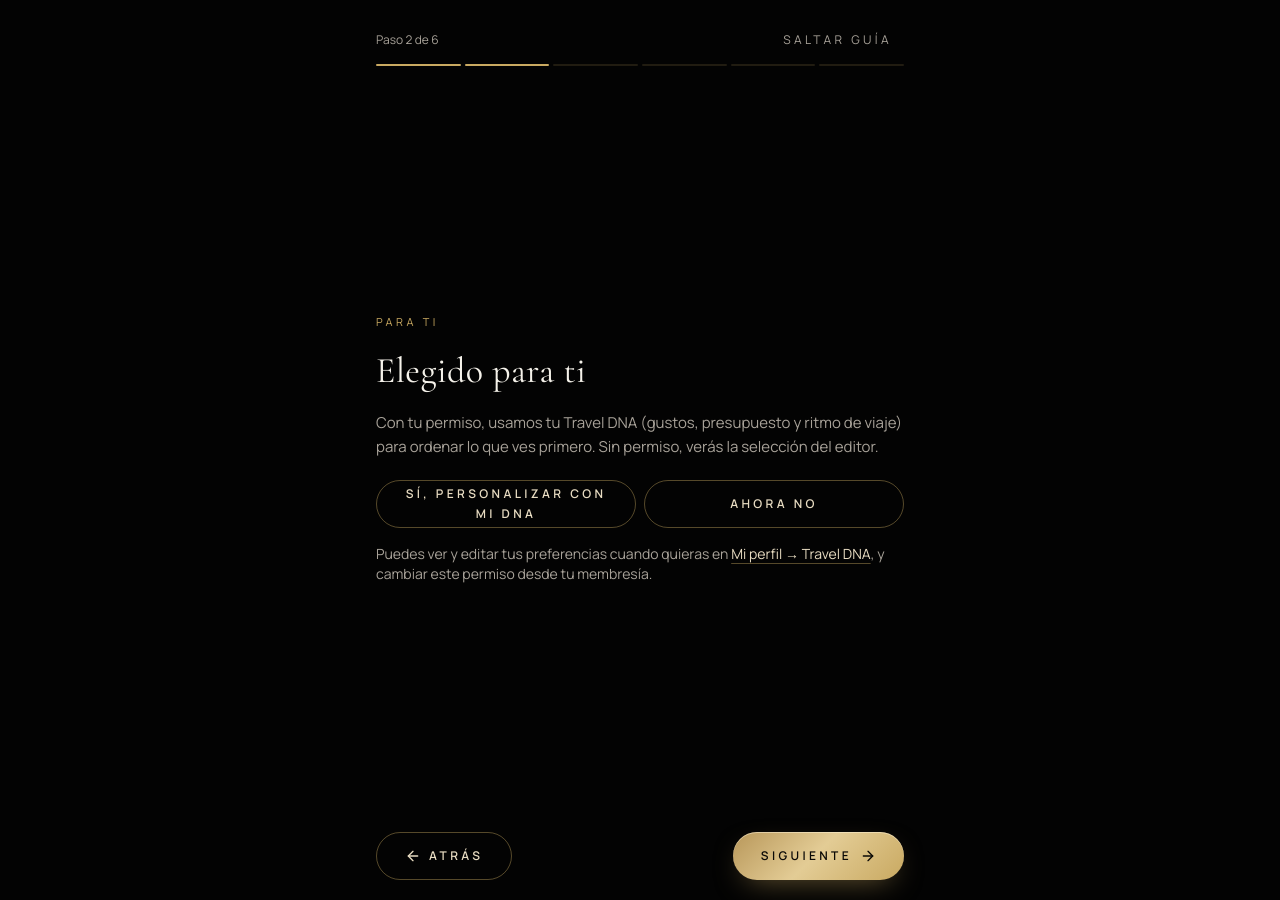
Test case: guía de inicio › el consentimiento del Travel DNA se guarda; reservas: cinco etiquetas sin prometer nada
The image size is (1280, 900).
Click the button "Sí, personalizar con mi DNA" at (506, 504), box left=376, top=480, right=636, bottom=528
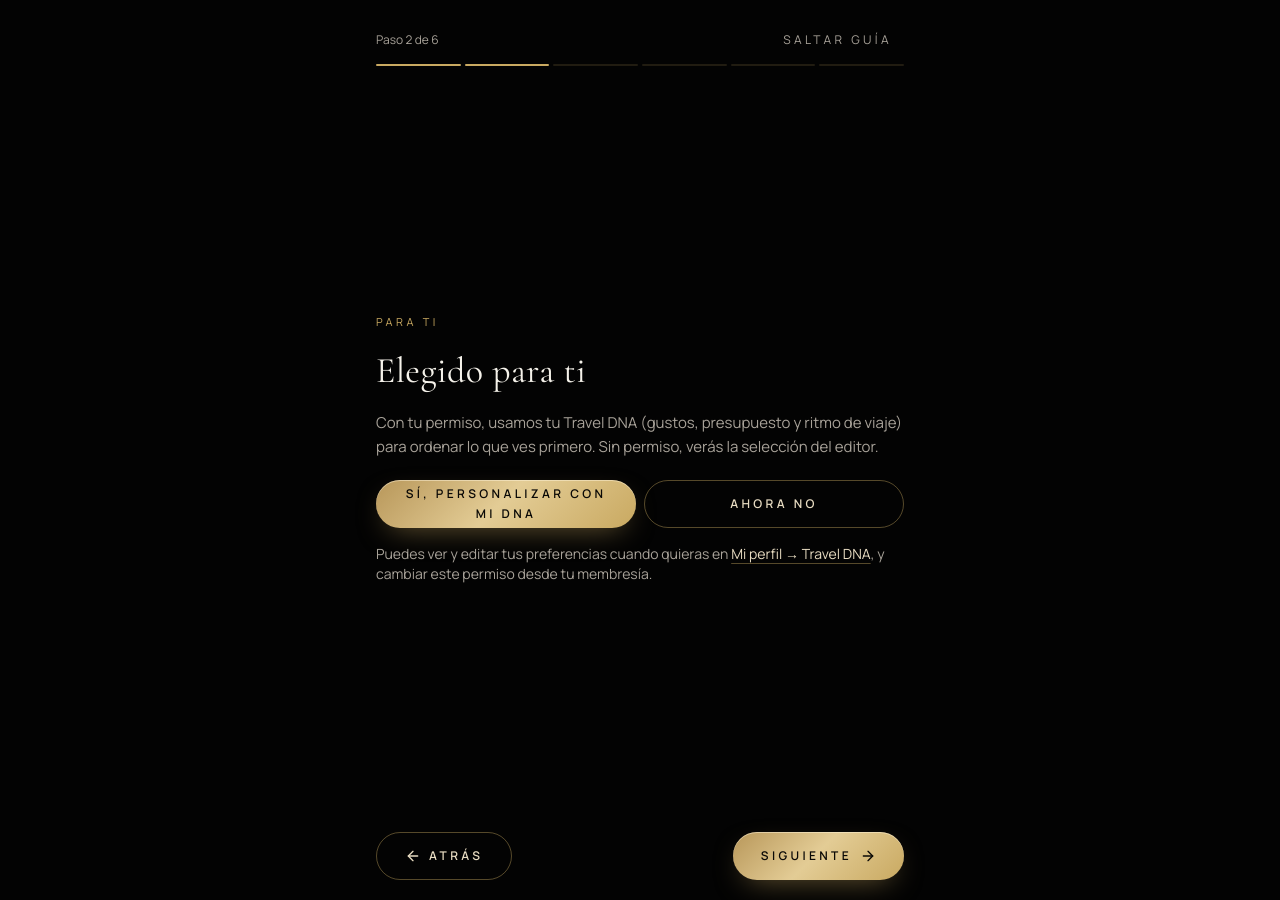
Click the button "Siguiente" at (818, 856), box left=733, top=832, right=904, bottom=880
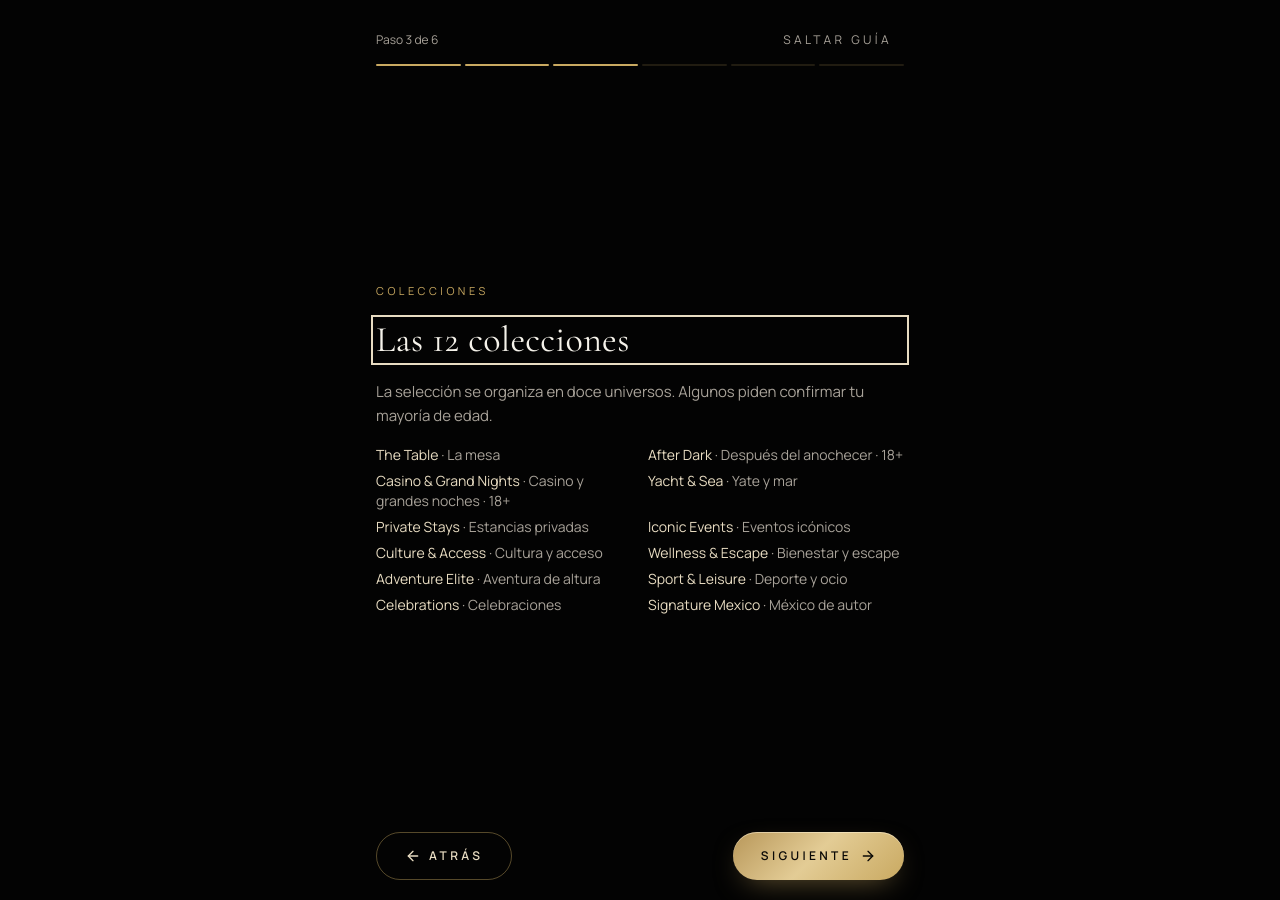
Click the button "Siguiente" at (818, 856), box left=733, top=832, right=904, bottom=880
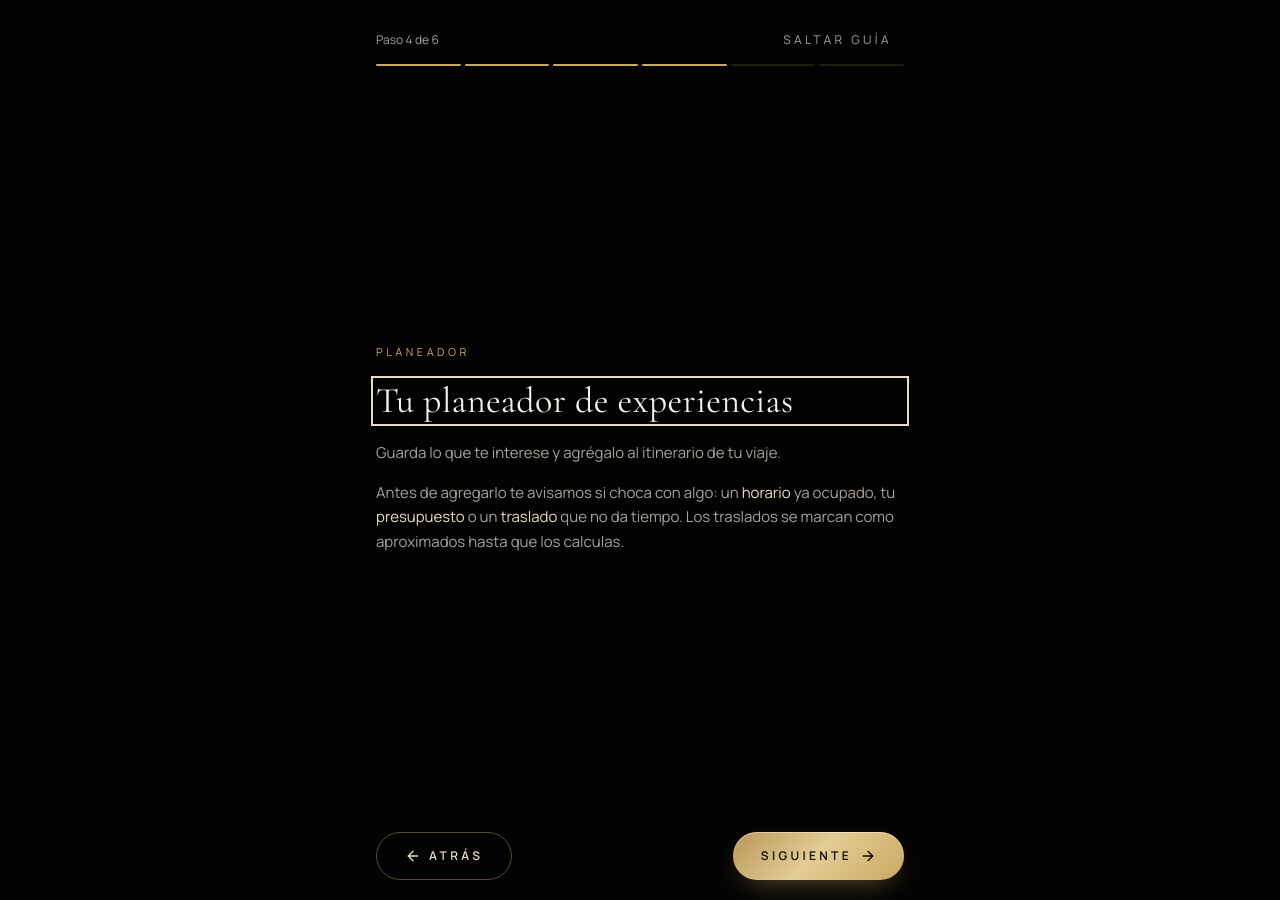
Click the button "Siguiente" at (818, 856), box left=733, top=832, right=904, bottom=880
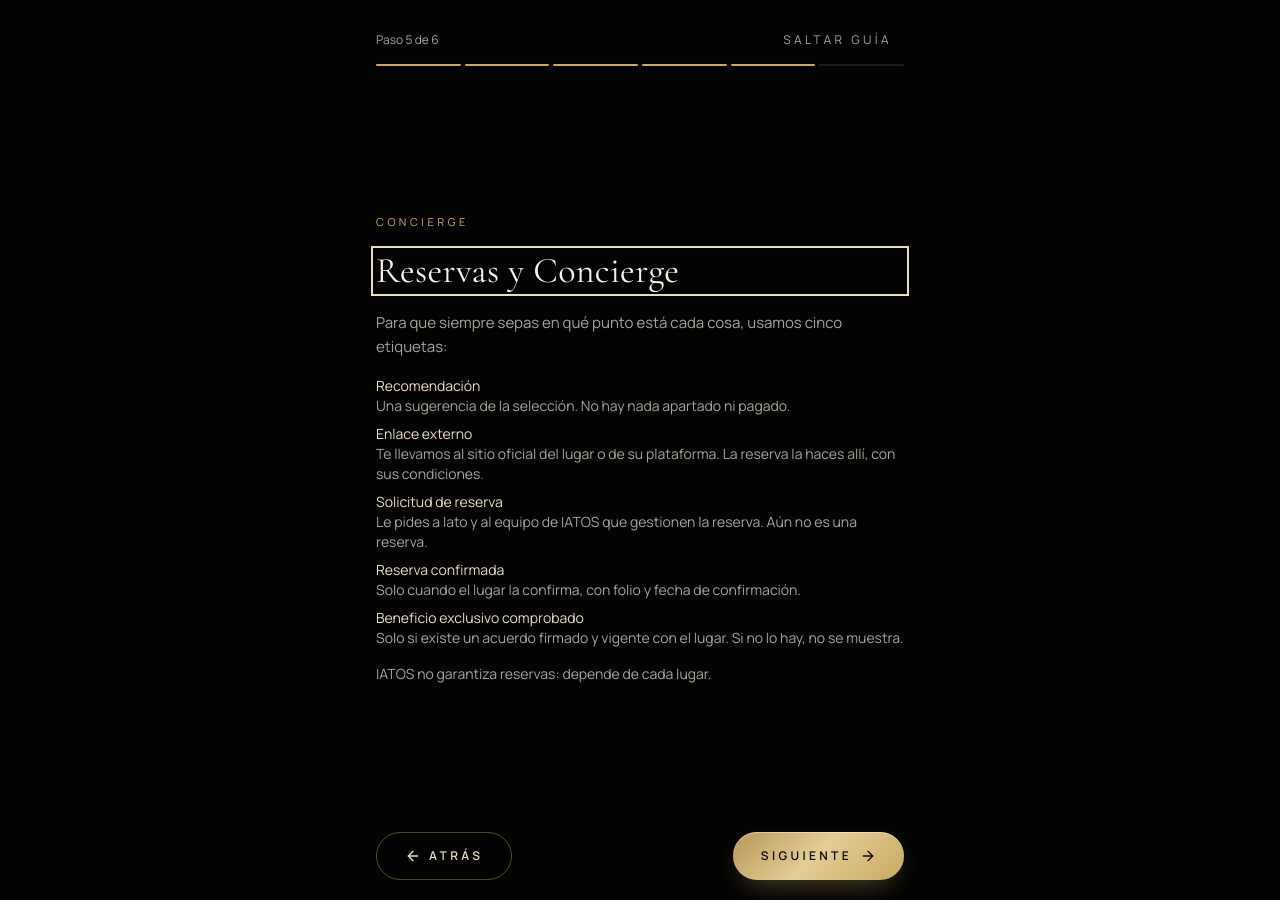
Expected: the text "Recomendación" is shown, left=376, top=376, right=480, bottom=395
Expected: the text "Enlace externo" is shown, left=376, top=424, right=472, bottom=443
Expected: the text "Solicitud de reserva" is shown, left=376, top=492, right=503, bottom=511
